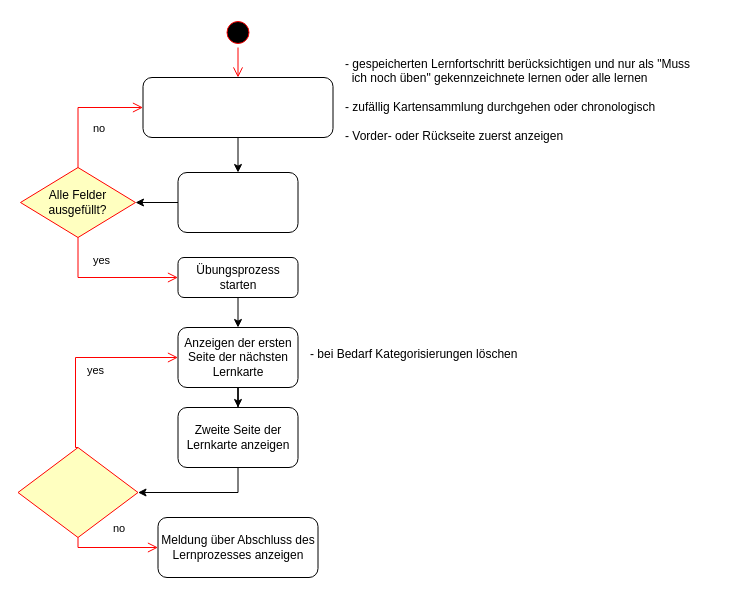
Some shapes in this 747 by 595 pixel diagram are drawn without their labels. The centre of each missing label's shape, as x and y in pixels:
"Einstellungen für Übungs-Durchgang abfragen" goes at [237,107].
"Vollständigkeit der Eingaben prüfen" goes at [237,202].
"Weitere Lernkarte vorhanden?" goes at [77,492].
